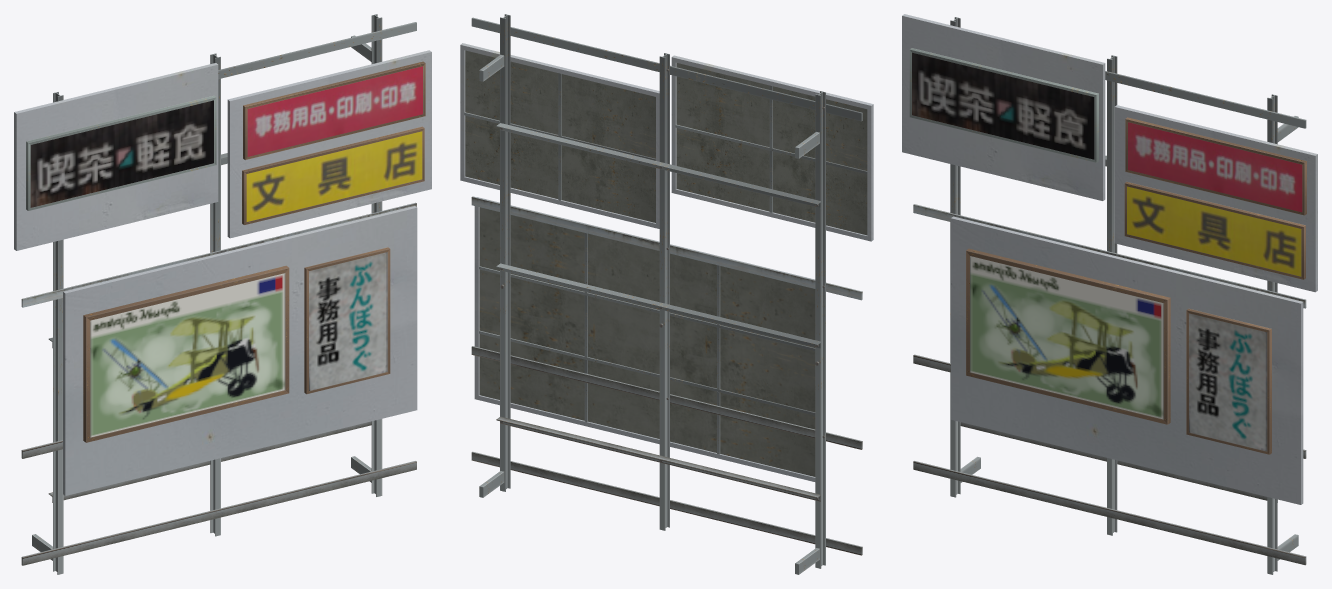
Rendered from signboardframe03a.fbx.
The picture shows the model from 3 angles, left to right: view 1: azimuth 30°, elevation 25°; view 2: azimuth 150°, elevation 25°; view 3: azimuth 330°, elevation 25°; orthographic projection.
Visible parts, largest first — view 1: signboardframe03a; view 2: signboardframe03a; view 3: signboardframe03a.
Part boxes in pixels (x1,y1,x2,y2): signboardframe03a: (14, 14, 431, 574); signboardframe03a: (460, 14, 873, 574); signboardframe03a: (902, 14, 1317, 574).
Bounding box in the file's own units: 277 × 38.08 × 305.
4 materials, 4 textured.
